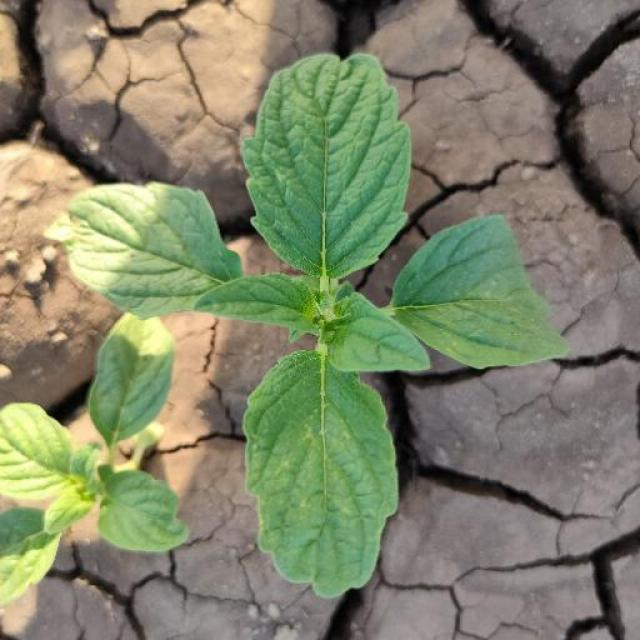crop: (60, 52, 576, 628), (1, 300, 211, 611)
